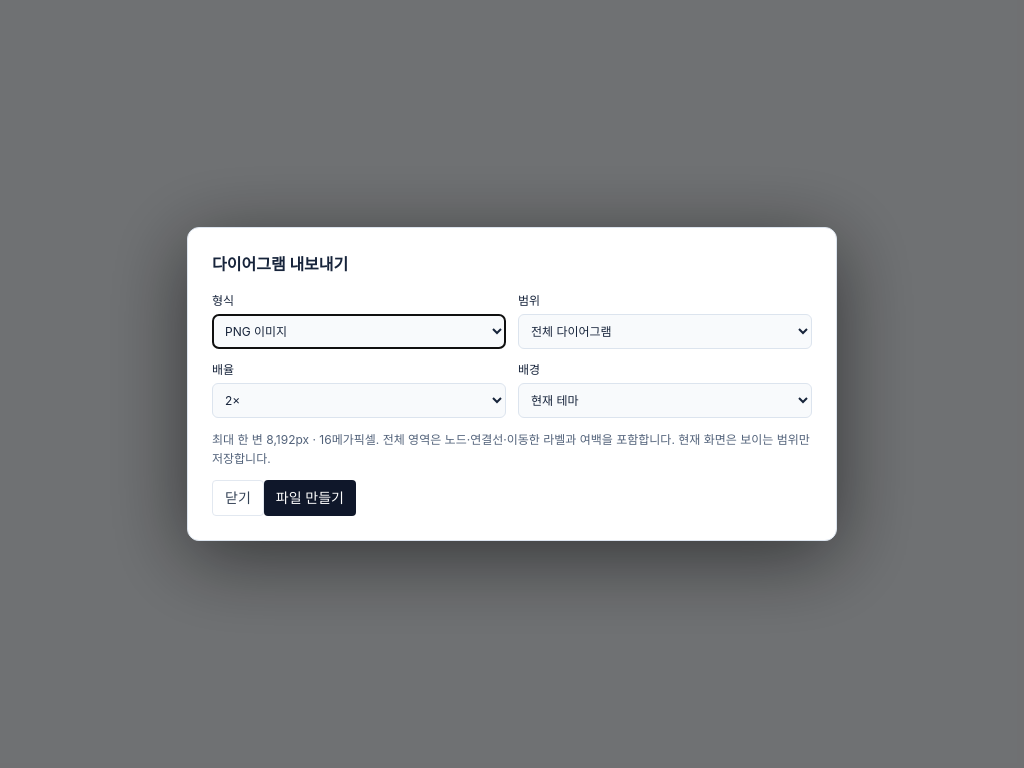
Scenario: does not leak an object URL if closed while output generation is pending
This screenshot has width=1024, height=768.
Click the button "파일 만들기" at (310, 498), box [264, 480, 356, 516]
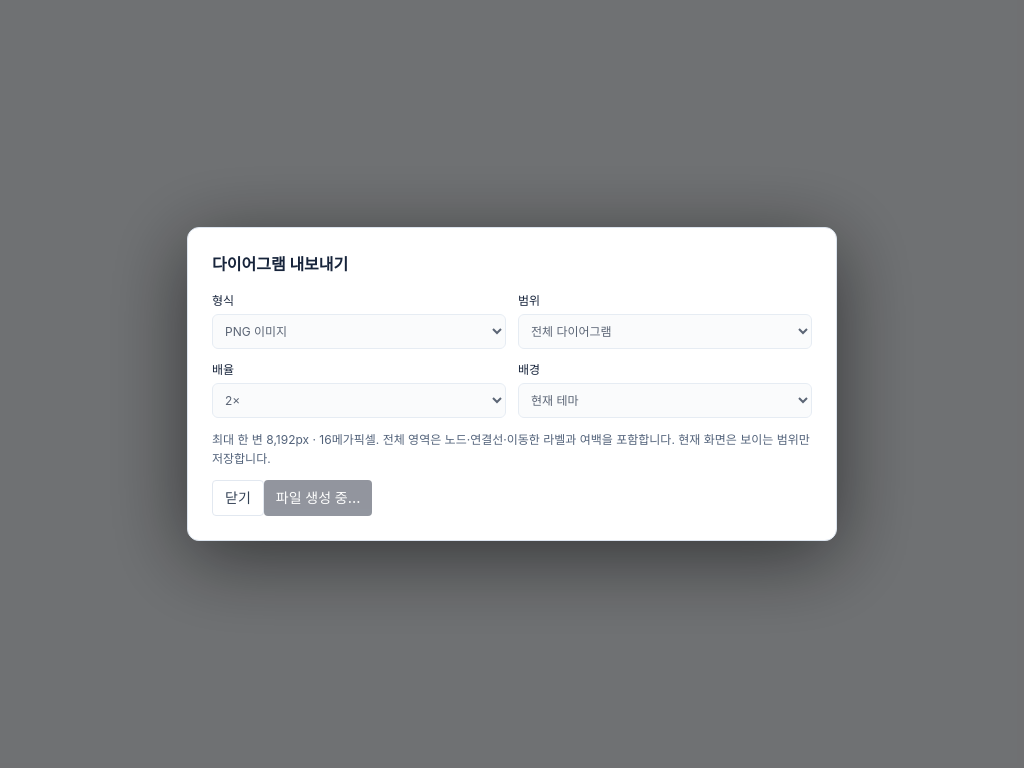
Result: the button "파일 생성 중…" is disabled at [264, 480, 372, 516]
